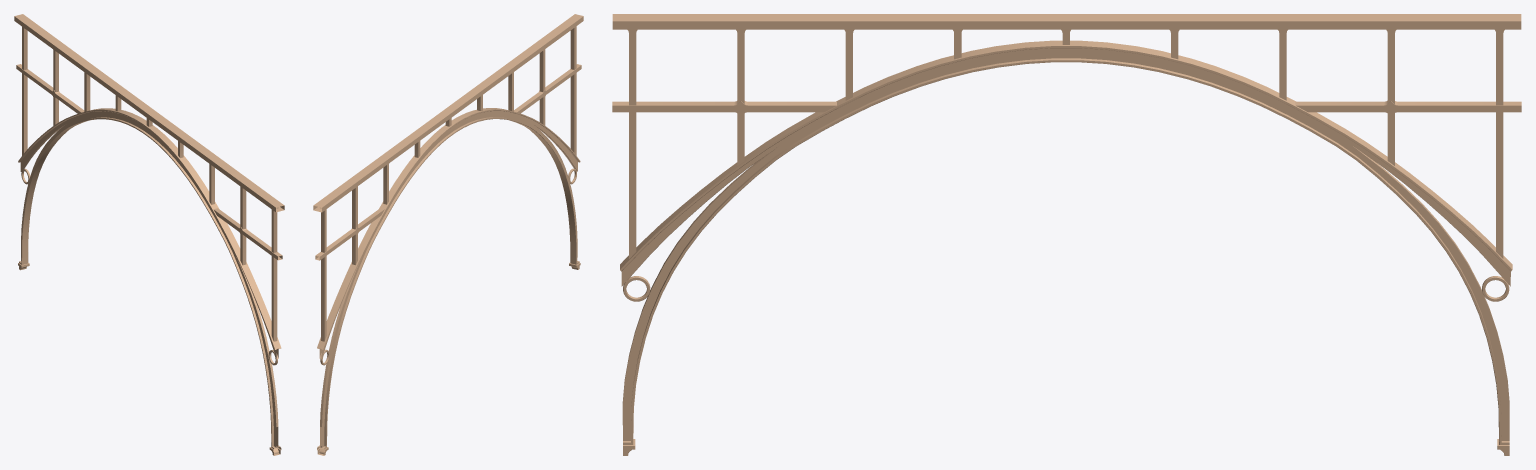
File: PetiteArche.FBX
3 renders of one model, left to right at view 1: azimuth 30°, elevation 25°; view 2: azimuth 150°, elevation 25°; view 3: azimuth 270°, elevation 25°, orthographic. The views are drawn at different scales.
Parts seen in each view (by area): view 1: ArchePetite; view 2: ArchePetite; view 3: ArchePetite.
Part boxes in pixels (bbox=[...]): ArchePetite: bbox=[14, 14, 284, 455]; ArchePetite: bbox=[313, 14, 583, 455]; ArchePetite: bbox=[612, 14, 1521, 455].
Bounding box in the file's own units: 20.59 × 563 × 1065.
